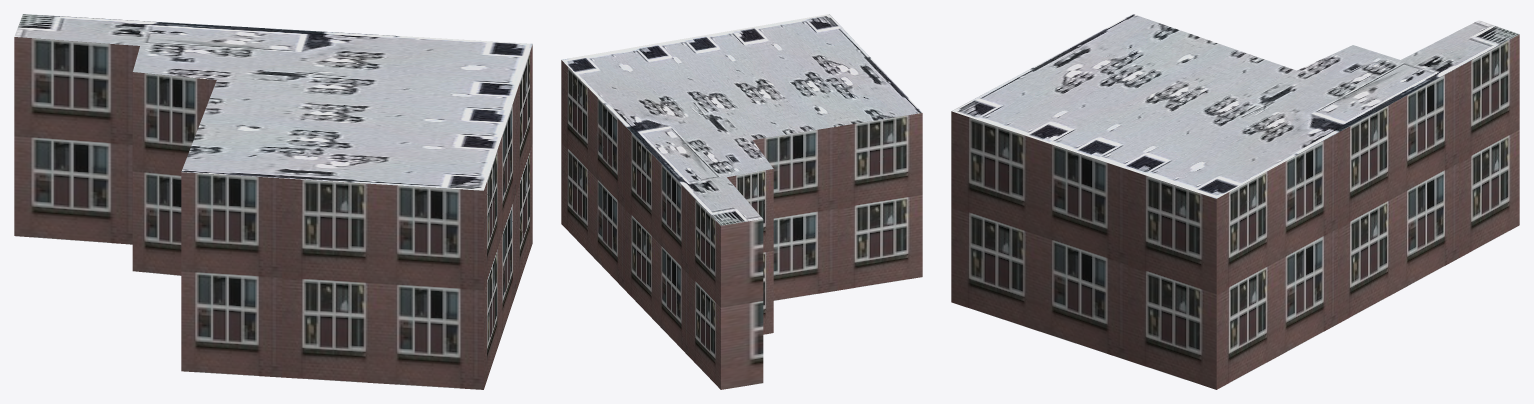
File: ResTex__1299.fbx
3 views of the same model, side by side, from view 1: azimuth 30°, elevation 25°; view 2: azimuth 150°, elevation 25°; view 3: azimuth 270°, elevation 25° (orthographic). The views are drawn at different scales.
Parts seen in each view (by area): view 1: CityEngineMaterial_12_m, CityEngineMaterial_8_m; view 2: CityEngineMaterial_12_m, CityEngineMaterial_8_m; view 3: CityEngineMaterial_12_m, CityEngineMaterial_8_m.
Boxes of the visible parts, <box> form: CityEngineMaterial_12_m: <box>14,37,532,389</box>; CityEngineMaterial_8_m: <box>14,14,532,190</box>; CityEngineMaterial_12_m: <box>561,60,922,389</box>; CityEngineMaterial_8_m: <box>561,14,922,225</box>; CityEngineMaterial_12_m: <box>951,34,1519,389</box>; CityEngineMaterial_8_m: <box>951,14,1519,198</box>.
Size of the model in its own units: 12.45 by 6 by 16.18.
Materials: 2 (2 with a texture image).
